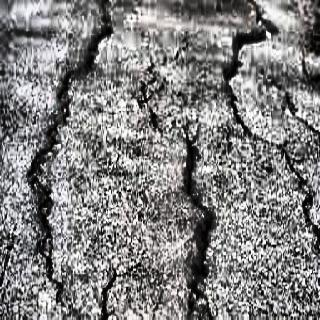crack: (28, 0, 132, 294), (164, 123, 232, 315), (265, 135, 320, 256), (225, 6, 278, 117)
